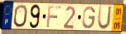2: (63, 5, 77, 30)
9: (28, 4, 42, 30)
F: (46, 5, 62, 29)
G: (81, 6, 97, 30)
O: (13, 4, 29, 29)
U: (96, 5, 114, 32)
